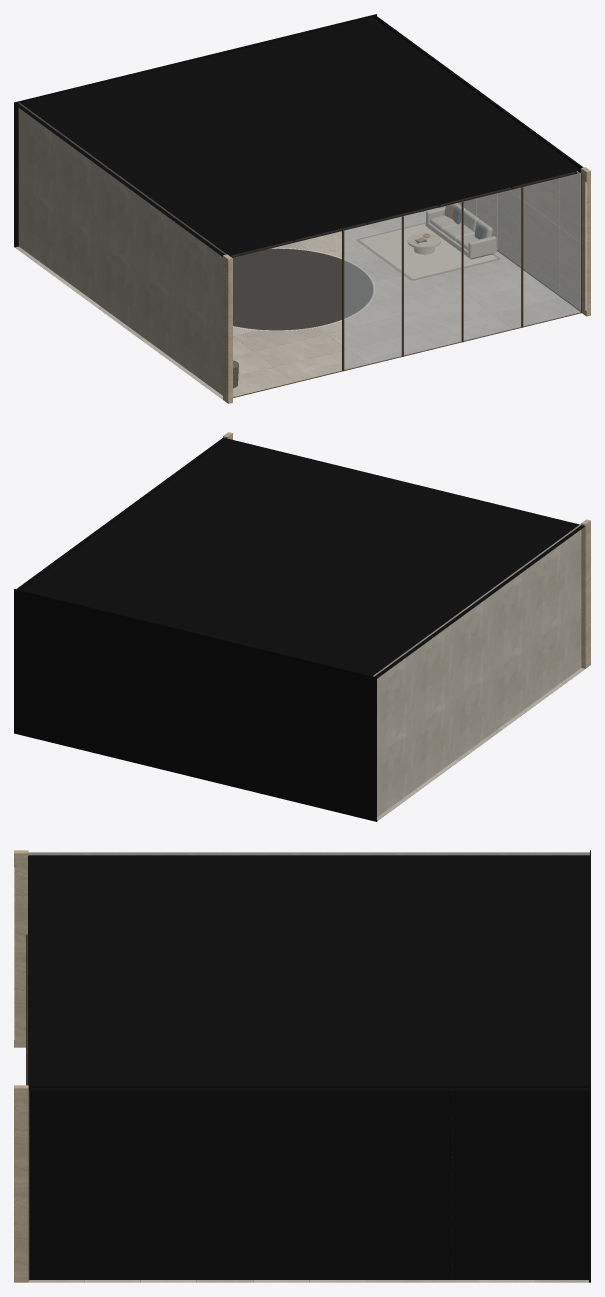
File: room_car.glb
3 renders of one model, top to bottom at view 1: azimuth 30°, elevation 25°; view 2: azimuth 150°, elevation 25°; view 3: azimuth 270°, elevation 25°, orthographic. The views are drawn at different scales.
Visible parts, largest first — view 1: MTG_Reveals, MTG_Walls, MTG_Glass_Vitrine, MTG_Floor, MTG_Stage, MTG_Rug, MTG_Sofa, MTG_Pier_-1, MTG_Pier_1, MTG_Ceiling; view 2: MTG_Reveals, MTG_Walls, MTG_Pier_-1, MTG_Floor; view 3: MTG_Reveals, MTG_Pier_1, MTG_Pier_-1, MTG_Walls, MTG_Floor.
Boxes of the visible parts, <box> form: MTG_Reveals: <box>14,14,583,391</box>; MTG_Walls: <box>18,102,580,395</box>; MTG_Glass_Vitrine: <box>344,173,580,369</box>; MTG_Floor: <box>15,208,579,399</box>; MTG_Stage: <box>233,248,373,330</box>; MTG_Rug: <box>360,224,496,278</box>; MTG_Sofa: <box>425,203,496,259</box>; MTG_Pier_-1: <box>223,254,232,403</box>; MTG_Pier_1: <box>581,167,590,316</box>; MTG_Ceiling: <box>230,171,577,257</box>; MTG_Reveals: <box>14,437,584,821</box>; MTG_Walls: <box>373,524,581,816</box>; MTG_Pier_-1: <box>581,519,590,668</box>; MTG_Floor: <box>377,668,584,820</box>; MTG_Reveals: <box>28,850,590,1282</box>; MTG_Pier_1: <box>14,1085,28,1282</box>; MTG_Pier_-1: <box>14,850,28,1047</box>; MTG_Walls: <box>28,853,589,855</box>; MTG_Floor: <box>28,1280,588,1282</box>.
Size of the model in its own units: 13 by 4.95 by 13.32.
Materials: 36 (12 with a texture image).
